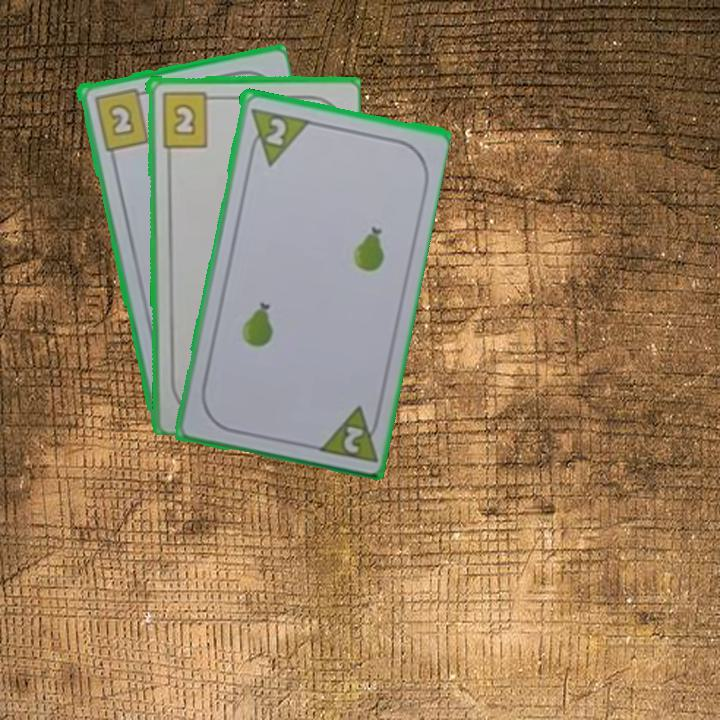2b: (90, 84, 151, 153), (158, 88, 219, 149)
2p: (313, 401, 384, 465), (262, 114, 289, 149)
